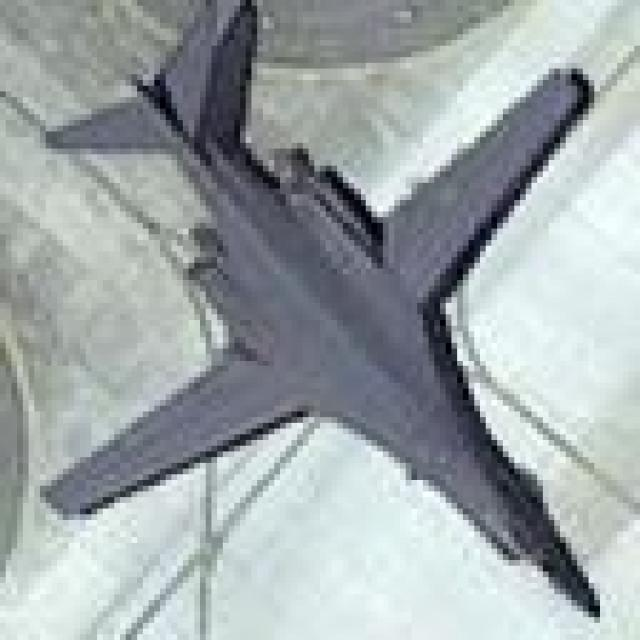B-1_TopDown: (29, 0, 612, 623)
